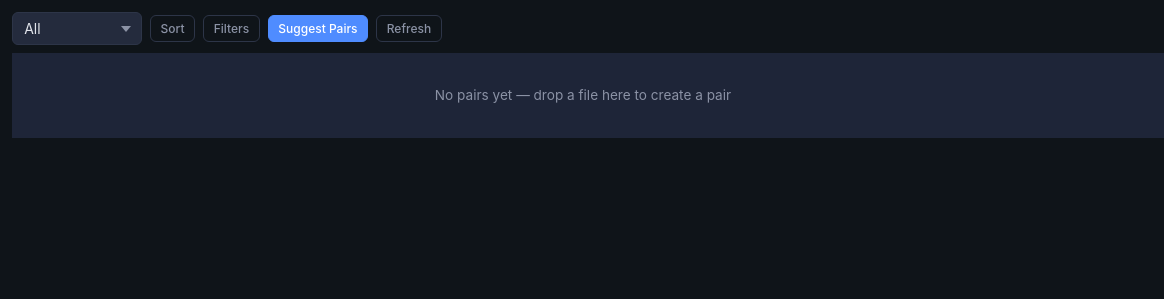
it: PairsPanel › empty state › shows "No pairs matching filters" when filters are active with no results
Note: Open filters and set a filter
Click the button "Filters" at x=231, y=29, box left=203, top=15, right=260, bottom=42
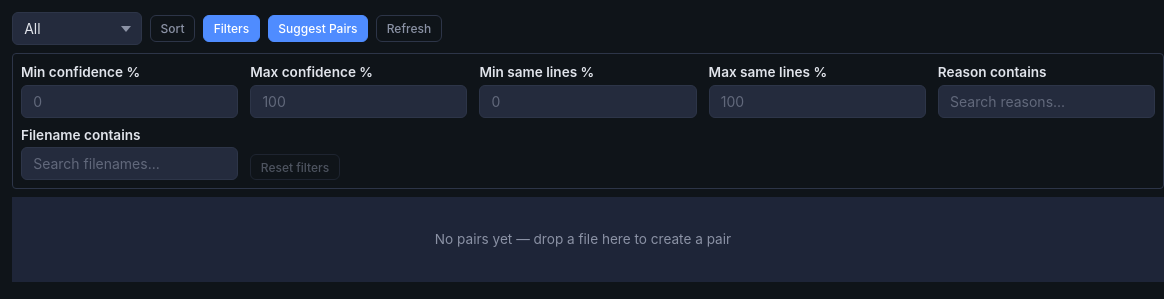
Note: Two inputs have placeholder "0": min confidence and min same lines
Type "90" into the number field with placeholder "0" below "Min confidence %" at x=130, y=102, box left=21, top=85, right=238, bottom=118
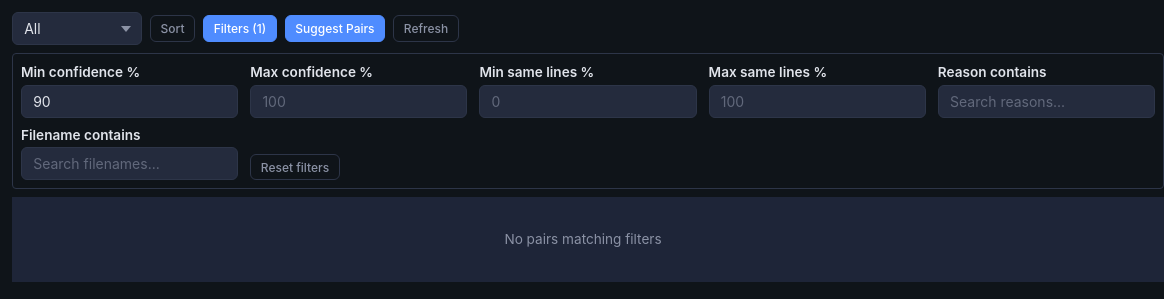
Now the text "No pairs matching filters" is shown, box left=504, top=231, right=662, bottom=247
